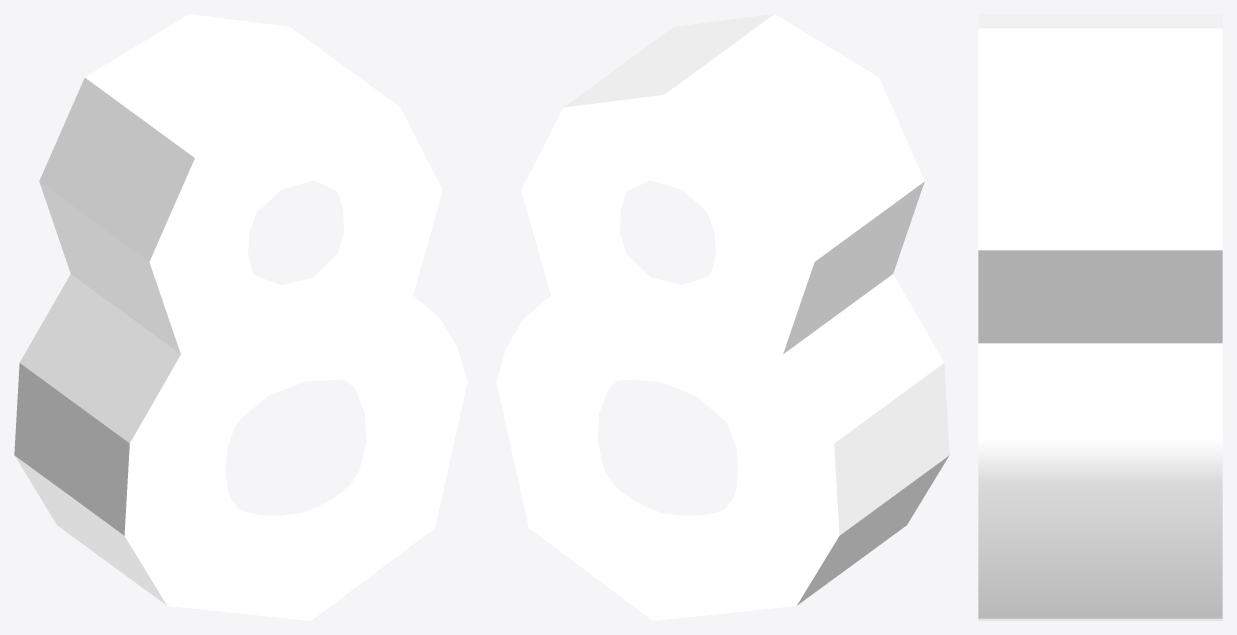
Rendered from 0f9d936d-fc8f-4309-8df9-cdd845eeaa70.glb.
3 renders of one model, left to right at view 1: azimuth 30°, elevation 25°; view 2: azimuth 150°, elevation 25°; view 3: azimuth 270°, elevation 25°, orthographic. The views are drawn at different scales.
Parts seen in each view (by area): view 1: 8_Zyzol_White; view 2: 8_Zyzol_White; view 3: 8_Zyzol_White.
Part boxes in pixels (box(x1,y1,x2,y2)): 8_Zyzol_White: box(14, 14, 467, 620); 8_Zyzol_White: box(496, 14, 949, 620); 8_Zyzol_White: box(978, 14, 1222, 620).
Size of what is drawn, in the model's own units: 0.0809 by 0.1192 by 0.045.
Materials: 2 (2 with a texture image).
